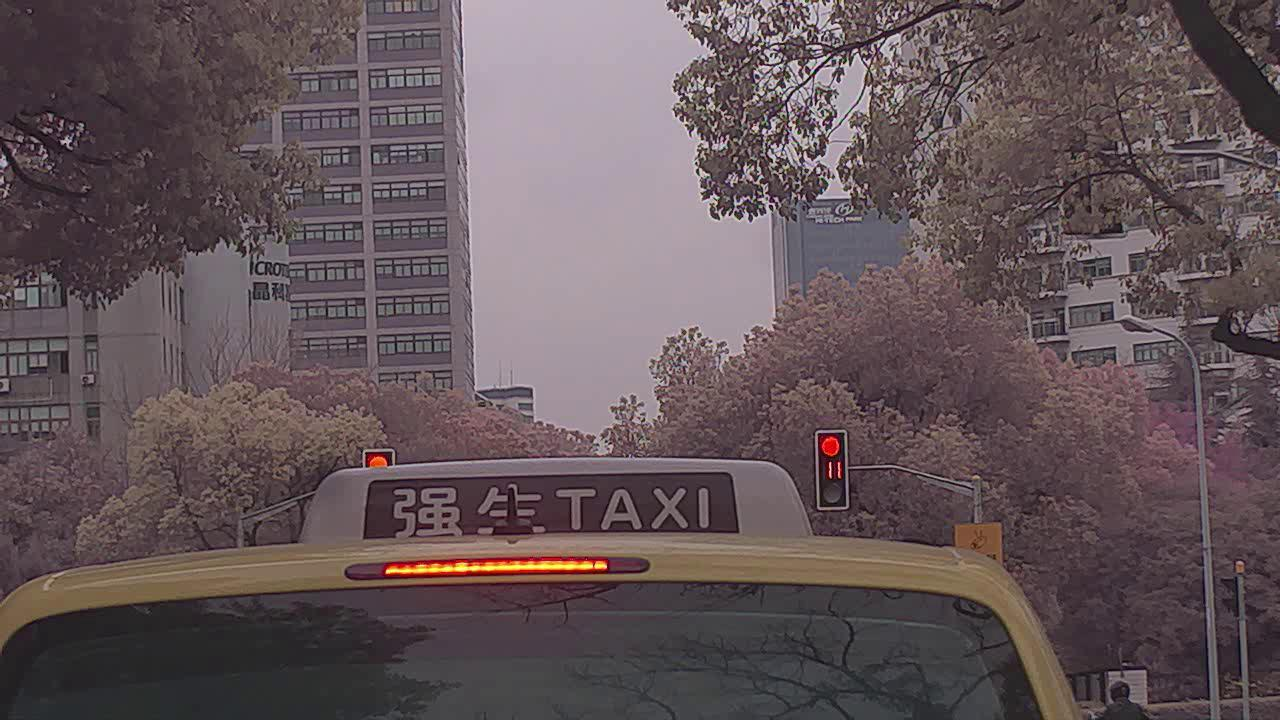traffic_light: (818, 430, 848, 504)
